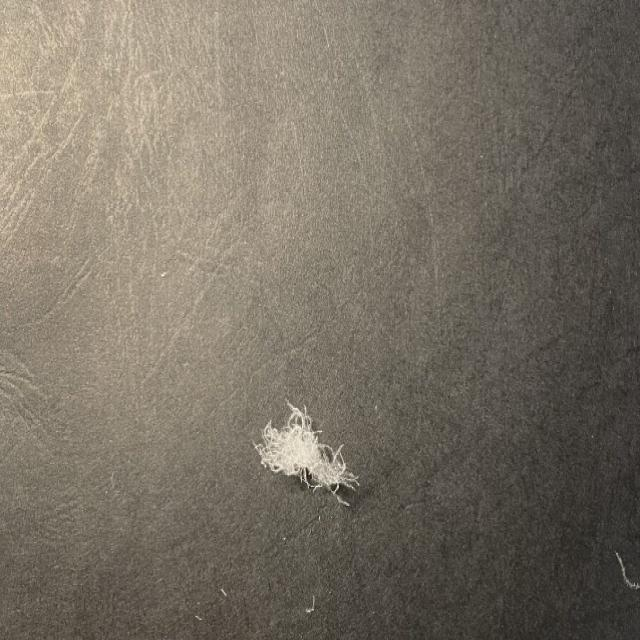feather: (249, 400, 359, 507)
